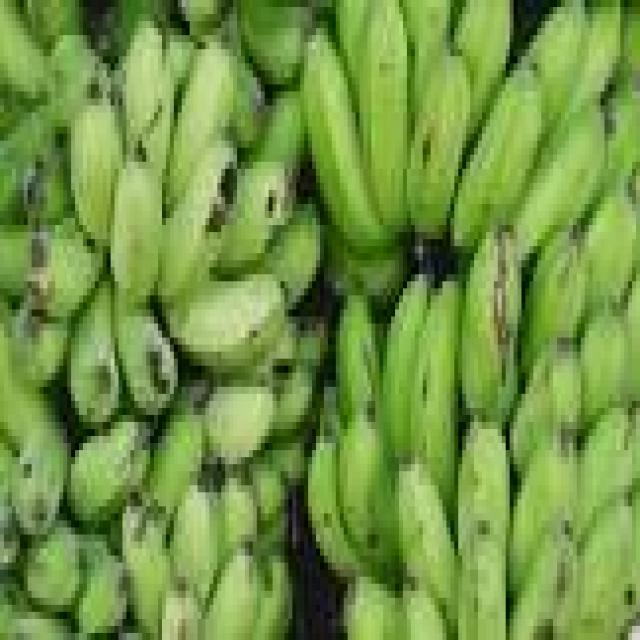banana: (301, 29, 391, 253), (451, 64, 545, 253), (514, 106, 604, 260), (356, 0, 410, 239), (159, 141, 237, 302), (459, 226, 521, 421), (407, 50, 470, 239), (411, 282, 462, 513), (166, 275, 284, 372), (166, 43, 237, 203), (510, 430, 580, 590), (336, 415, 399, 576), (396, 465, 458, 625), (510, 338, 580, 478), (522, 226, 588, 372), (309, 401, 363, 576), (380, 275, 430, 464), (569, 500, 636, 639), (68, 415, 150, 527), (214, 162, 292, 274), (68, 85, 122, 246), (0, 317, 63, 450), (123, 15, 173, 182), (526, 0, 588, 133), (577, 408, 639, 541), (68, 282, 122, 429), (510, 528, 580, 639), (455, 0, 513, 133), (111, 155, 161, 302), (115, 296, 177, 414), (28, 219, 102, 316), (324, 226, 410, 309), (585, 190, 639, 316), (459, 422, 509, 555), (12, 422, 71, 534), (261, 204, 323, 309), (147, 408, 205, 520), (400, 0, 454, 119), (123, 500, 169, 639), (170, 479, 221, 604), (238, 0, 312, 84), (202, 380, 276, 464), (0, 106, 55, 218), (569, 0, 624, 112), (581, 310, 632, 429), (459, 528, 509, 639), (123, 22, 165, 154), (336, 296, 379, 421), (24, 521, 82, 611), (48, 36, 106, 126), (202, 549, 260, 639), (76, 535, 126, 639), (12, 303, 71, 386), (0, 0, 47, 98), (253, 92, 308, 175), (139, 64, 177, 182), (24, 141, 75, 225), (214, 472, 260, 562), (230, 50, 268, 154), (344, 577, 406, 639), (605, 78, 639, 189), (241, 317, 300, 379), (273, 366, 316, 443), (253, 556, 292, 639), (111, 0, 177, 49), (336, 0, 371, 91), (249, 458, 288, 534), (24, 0, 82, 49), (0, 437, 19, 576), (159, 577, 201, 639), (403, 584, 450, 639), (0, 226, 31, 302), (8, 605, 75, 639), (265, 437, 308, 485), (0, 493, 23, 576), (625, 275, 639, 400), (617, 0, 639, 77), (0, 577, 27, 639), (297, 317, 327, 372), (257, 514, 288, 555), (0, 92, 23, 133), (633, 486, 639, 555)
